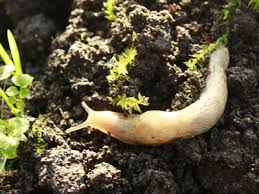slug: (77, 48, 231, 143)
